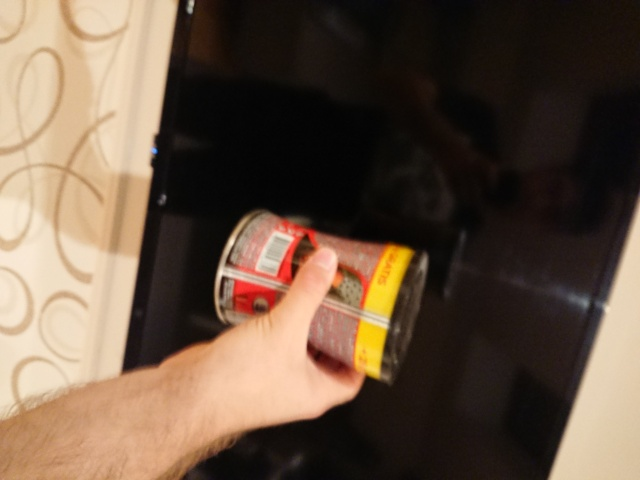Nescafe Classic 225g: (210, 205, 433, 390)
